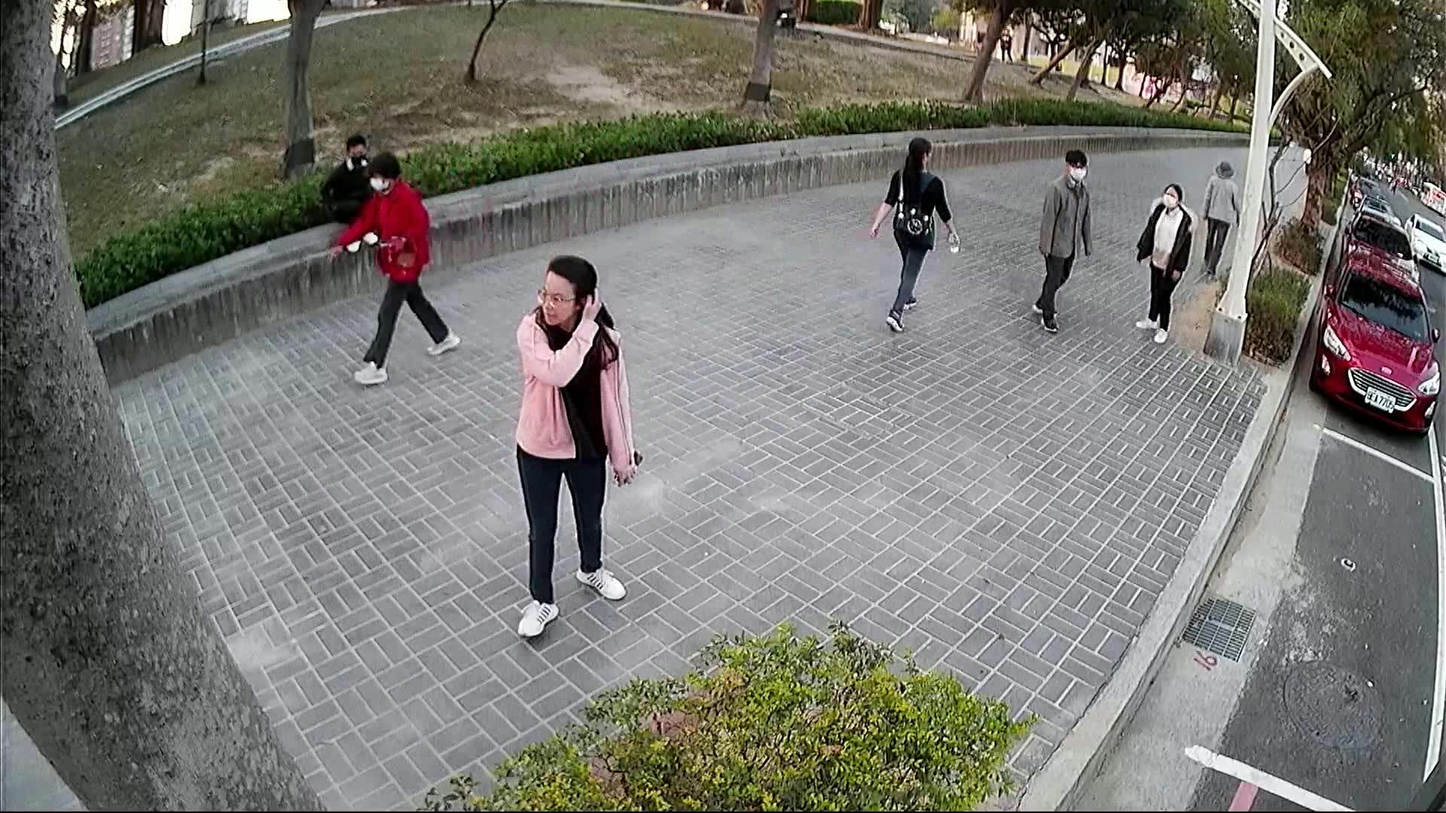person: (508, 243, 642, 644), (321, 146, 463, 388), (862, 131, 962, 332), (1023, 142, 1095, 334), (1129, 173, 1200, 346), (316, 127, 379, 250), (1194, 153, 1248, 282)
